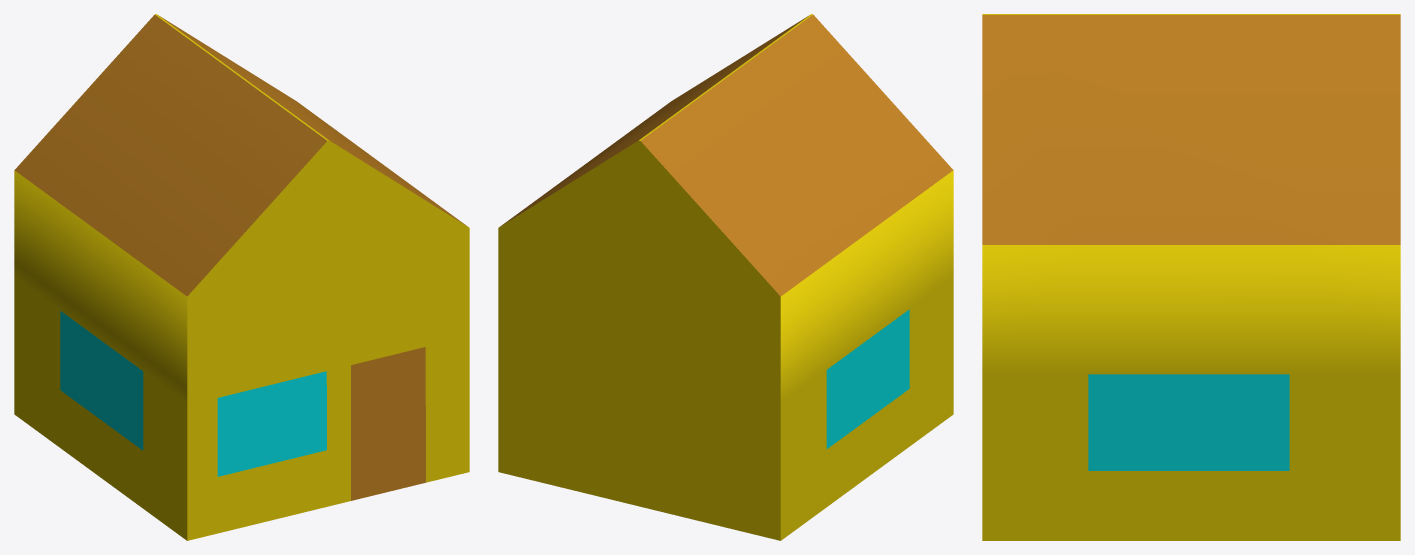
File: house yellow.fbx
The picture shows the model from 3 angles, left to right: view 1: azimuth 30°, elevation 25°; view 2: azimuth 150°, elevation 25°; view 3: azimuth 270°, elevation 25°; orthographic projection. The views are drawn at different scales.
Visible parts, largest first — view 1: pCube3; view 2: pCube3; view 3: pCube3.
Part boxes in pixels (<box>): pCube3: <box>14,14,469,540</box>; pCube3: <box>498,14,953,540</box>; pCube3: <box>982,14,1400,540</box>.
Size of the model in its own units: 8.62 by 10.67 by 9.14.
